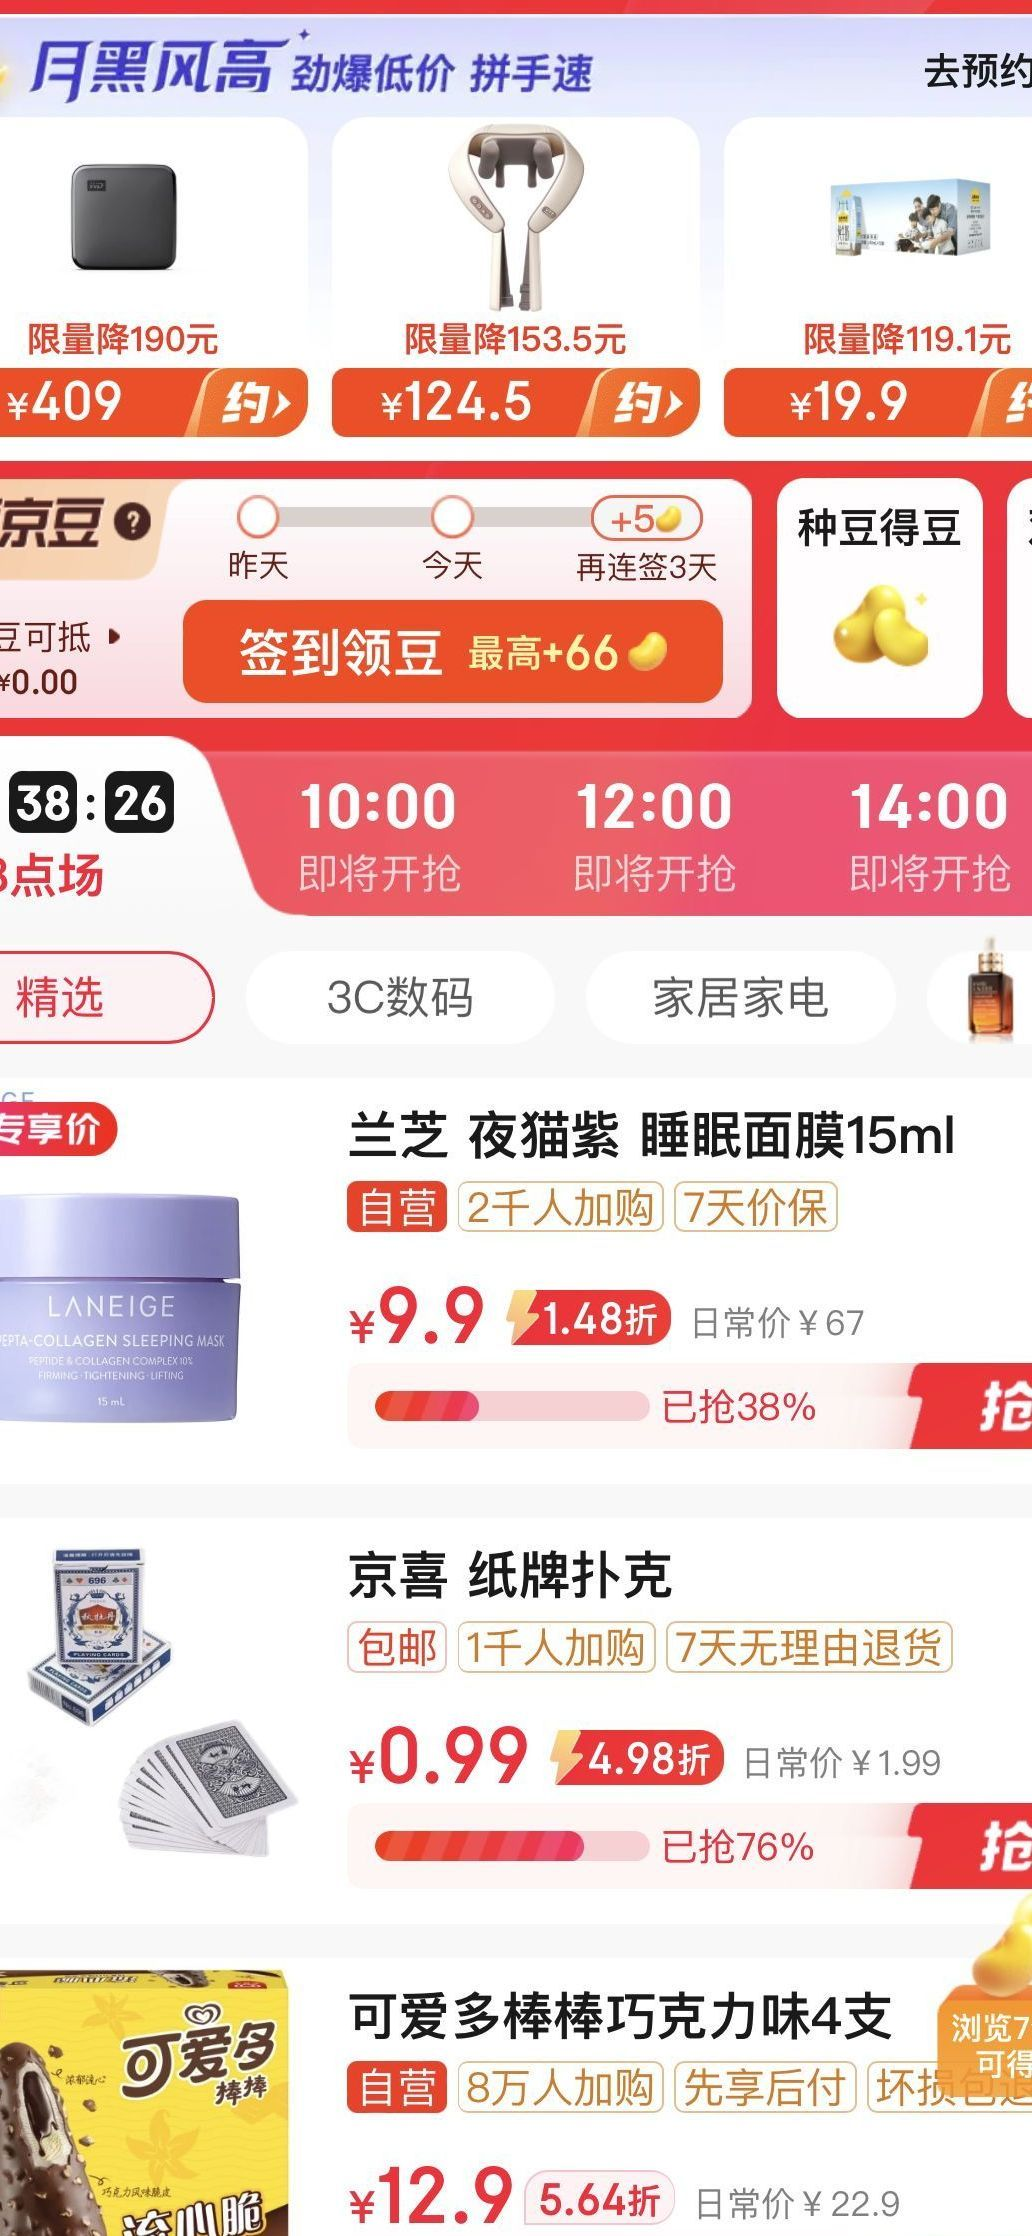item: (6, 1061, 1031, 1503), (6, 1504, 1032, 1937)
seckill: (3, 4, 1026, 729)
